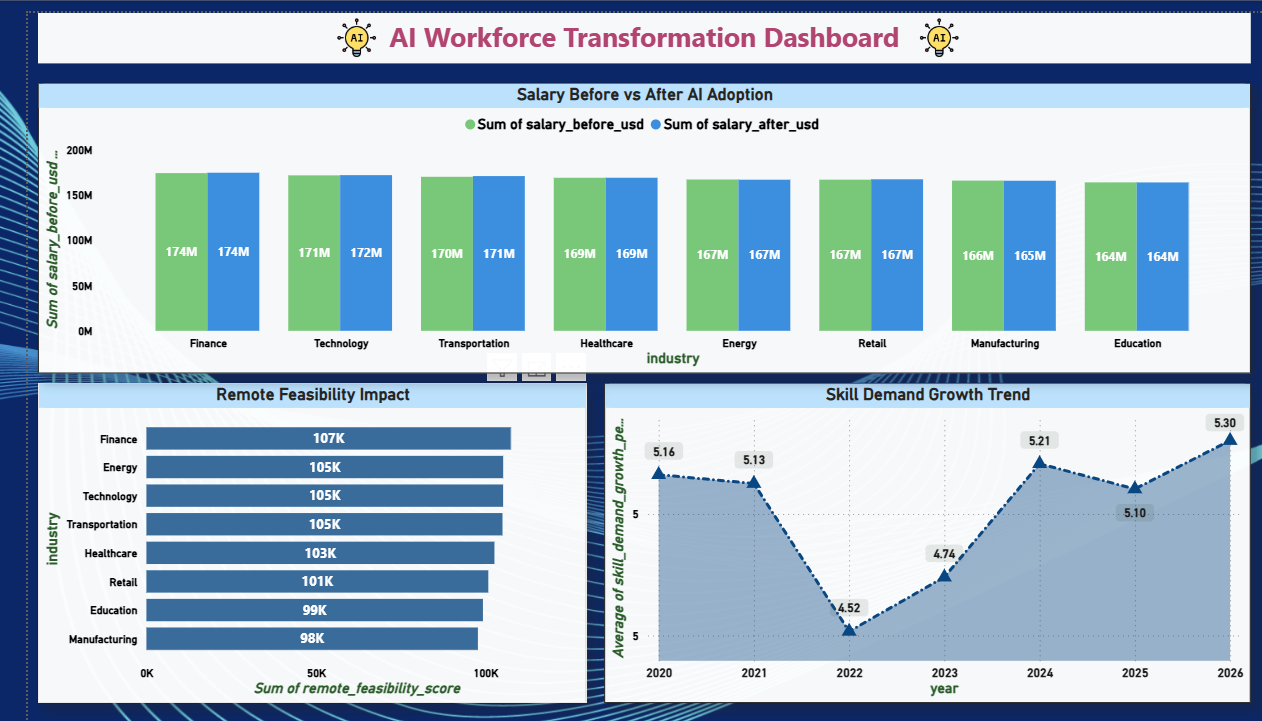

What the dashboard file says about the page in this screenshot:
{"tool":"powerbi","page":{"name":"Page 3","canvas":[1280,720],"ordinal":2},"visuals":[{"type":"lineChart","title":"Skill Demand Growth Trend","fields":{"Category":["ai_jobs.year"],"Y":["Avg(ai_jobs.skill_demand_growth_percent)"]},"box":[576.2,370,646.2,320],"z":0},{"type":"barChart","title":"Remote Feasibility Impact","fields":{"Category":["ai_jobs.industry"],"Y":["Sum(ai_jobs.remote_feasibility_score)"]},"box":[10,370,548.8,320],"z":1000},{"type":"clusteredColumnChart","title":"Salary Before vs After AI Adoption","fields":{"Category":["ai_jobs.industry"],"Y":["Sum(ai_jobs.salary_before_usd)","Sum(ai_jobs.salary_after_usd)"]},"box":[10,70,1212.5,290],"z":2000},{"type":"textbox","box":[10,0,1212.5,50],"z":3000},{"type":"image","box":[880,0,62.5,50],"z":7000},{"type":"image","box":[297.5,0,62.5,50],"z":8000}]}

Visuals, with their boxes in screenshot pixels (x1, y1, x2, y2), scaled from the page's 1280x720 canvas onto the 1262x721 screenshot:
"Skill Demand Growth Trend" lineChart: box(568, 371, 1205, 691)
"Remote Feasibility Impact" barChart: box(10, 371, 551, 691)
"Salary Before vs After AI Adoption" clusteredColumnChart: box(10, 70, 1205, 360)
textbox: box(10, 0, 1205, 50)
image: box(868, 0, 929, 50)
image: box(293, 0, 355, 50)
